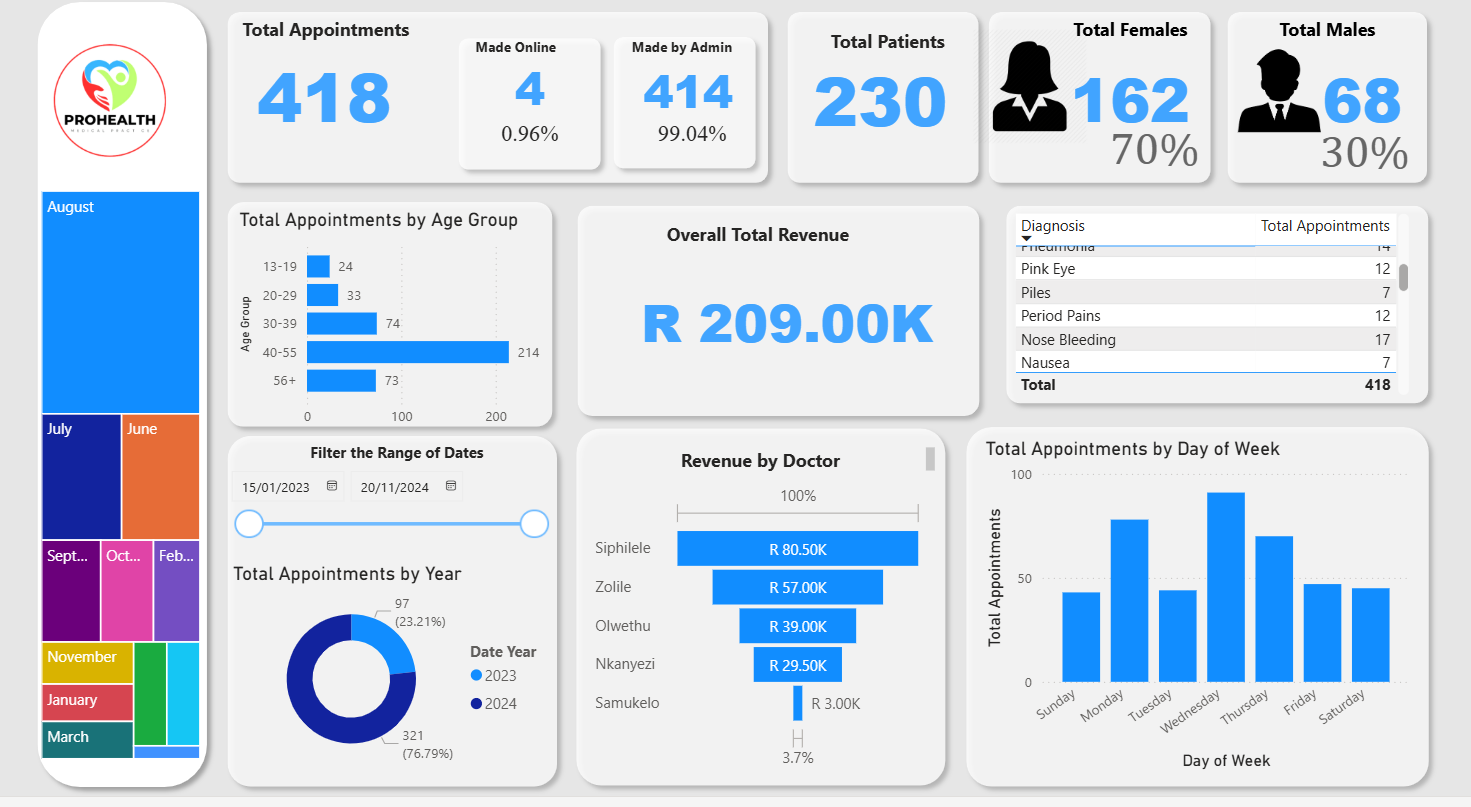

The dashboard page shown, as its layout file describes it:
{"tool":"powerbi","page":{"name":"Page 1","canvas":[1280,720],"ordinal":0},"visuals":[{"type":"shape","box":[11.6,0,169.6,721],"z":0},{"type":"shape","box":[180.9,8.9,267.8,170.2],"z":1000},{"type":"shape","box":[468.2,8.9,250.9,170.2],"z":2000},{"type":"shape","box":[746.6,8.9,250.9,170.2],"z":3000},{"type":"shape","box":[1004.6,8.9,269.6,170.2],"z":4000},{"type":"shape","box":[180.9,179.1,313,540.9],"z":5000},{"type":"shape","box":[493.9,179.1,252.7,201.3],"z":6000},{"type":"shape","box":[493.9,382.2,348.5,337.8],"z":7000},{"type":"shape","box":[740.4,179.1,289.1,203.1],"z":8000},{"type":"shape","box":[1029.5,179.1,242.1,201.3],"z":9000},{"type":"shape","box":[842.4,380.4,429.2,339.6],"z":10000},{"type":"image","box":[0,16,171.1,163.2],"z":11000},{"type":"card","title":"Total Patients","fields":{"Values":["Patient.Total Pat"]},"box":[490.3,47,206.6,117],"z":12000},{"type":"image","box":[746.6,32.8,117,112.6],"z":13000},{"type":"image","box":[1041,45.2,84.2,86.9],"z":14000},{"type":"card","fields":{"Values":["Patient.Female"]},"box":[851.2,42.6,140.1,102.9],"z":15000},{"type":"card","fields":{"Values":["Patient.Male"]},"box":[1091.5,38.1,188.9,111.7],"z":16000},{"type":"textbox","box":[842.4,32.8,106.4,55.9],"z":17000},{"type":"textbox","box":[1149.2,32.8,104.6,39],"z":18000},{"type":"card","fields":{"Values":["Patient.%male"]},"box":[1137.6,117,105.5,47],"z":19000},{"type":"card","fields":{"Values":["Patient.%female"]},"box":[878.7,108.2,104.6,65.6],"z":20000},{"type":"textbox","box":[515.2,193.3,172.9,35.5],"z":21000},{"type":"card","fields":{"Values":["Appointment.Total Revenue"]},"box":[505.4,243.8,227.9,74.5],"z":22000},{"type":"columnChart","fields":{"Category":["Appointment.Day of Week"],"Y":["Appointment.Total Appointments"]},"box":[863.6,398.1,390.1,303.3],"z":23000},{"type":"card","fields":{"Values":["Appointment.Total Appointments"]},"box":[229.7,61.2,188,102.9],"z":24000},{"type":"textbox","box":[505.4,32.8,191.5,39],"z":25000},{"type":"textbox","box":[241.2,32.8,166.7,49.7],"z":26000},{"type":"clusteredBarChart","fields":{"Category":["Patient.Age Group"],"Y":["Appointment.Total Appointments"]},"box":[211.9,199.5,278.4,203.9],"z":27000},{"type":"multiRowCard","fields":{"Values":["Doctor.Doctor_Name","Appointment.Total Appointments"]},"box":[1048.1,228.8,213.7,142.8],"z":28000},{"type":"textbox","box":[1056.9,199.5,196.8,29.3],"z":29000},{"type":"stackedAreaChart","fields":{"Y":["Appointment.Total Appointments","Patient.Male","Patient.Female"],"Category":["Patient.Age Group"]},"box":[197.7,420.3,290,281.1],"z":30000},{"type":"textbox","box":[515.2,403.4,313.9,31],"z":31000},{"type":"funnel","fields":{"Category":["Doctor.Doctor_Name"],"Y":["Appointment.Total Revenue"]},"box":[515.2,434.5,304.1,266.9],"z":32000},{"type":"tableEx","fields":{"Values":["Appointment.Reason_For_Visit","Appointment.Total Appointments"]},"box":[746.6,193.3,272.2,178.2],"z":33000},{"type":"treemap","fields":{"Group":["Appointment.Date.Variation.Date Hierarchy.Month"],"Values":["Appointment.Total Appointments"]},"box":[11.5,173.8,159.6,517.8],"z":34000},{"type":"columnChart","box":[138.3,117,299.7,299.7],"z":35000}]}

Visuals, with their boxes in screenshot pixels (x1, y1, x2, y2), scaled from the page's 1280x720 canvas onto the 1471x807 screenshot:
shape: (13,0,208,806)
shape: (208,10,516,201)
shape: (538,10,826,201)
shape: (858,10,1146,201)
shape: (1155,10,1464,201)
shape: (208,201,568,806)
shape: (568,201,858,426)
shape: (568,428,968,806)
shape: (851,201,1183,428)
shape: (1183,201,1461,426)
shape: (968,426,1461,806)
image: (0,18,197,201)
"Total Patients" card: (563,53,801,184)
image: (858,37,992,163)
image: (1196,51,1293,148)
card - Patient.Female: (978,48,1139,163)
card - Patient.Male: (1254,43,1470,168)
textbox: (968,37,1090,99)
textbox: (1321,37,1441,80)
card - Patient.%male: (1307,131,1429,184)
card - Patient.%female: (1010,121,1130,195)
textbox: (592,217,791,256)
card - Appointment.Total Revenue: (581,273,843,357)
columnChart - Appointment.Day of Week x Appointment.Total Appointments: (992,446,1441,786)
card - Appointment.Total Appointments: (264,69,480,184)
textbox: (581,37,801,80)
textbox: (277,37,469,92)
clusteredBarChart - Patient.Age Group x Appointment.Total Appointments: (244,224,563,452)
multiRowCard - Doctor.Doctor_Name x Appointment.Total Appointments: (1204,256,1450,417)
textbox: (1215,224,1441,256)
stackedAreaChart - Appointment.Total Appointments x Patient.Male: (227,471,560,786)
textbox: (592,452,953,487)
funnel - Doctor.Doctor_Name x Appointment.Total Revenue: (592,487,942,786)
tableEx - Appointment.Reason_For_Visit x Appointment.Total Appointments: (858,217,1171,416)
treemap - Appointment.Date.Variation.Date Hierarchy.Month x Appointment.Total Appointments: (13,195,197,775)
columnChart: (159,131,503,467)
